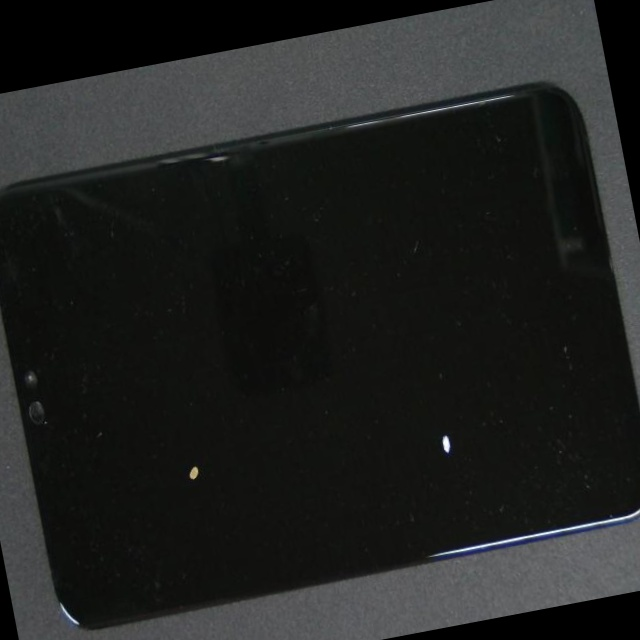stain: (196, 224, 640, 640), (86, 251, 340, 640)
